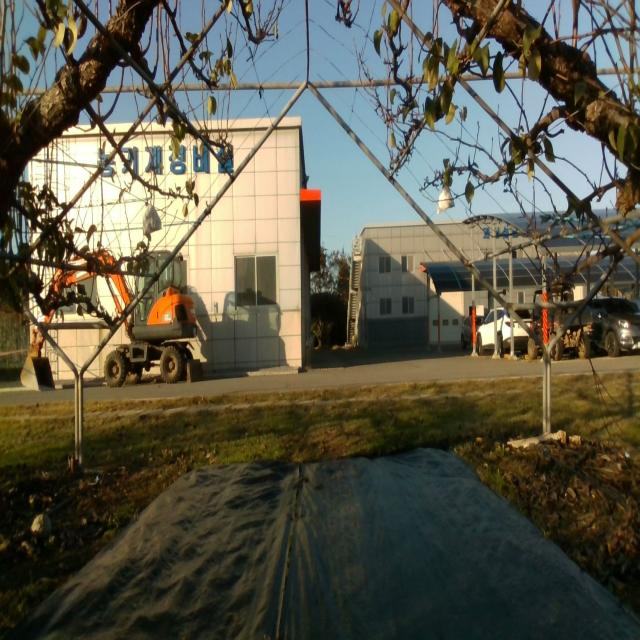pearbags: (142, 202, 164, 236), (438, 187, 455, 216)
